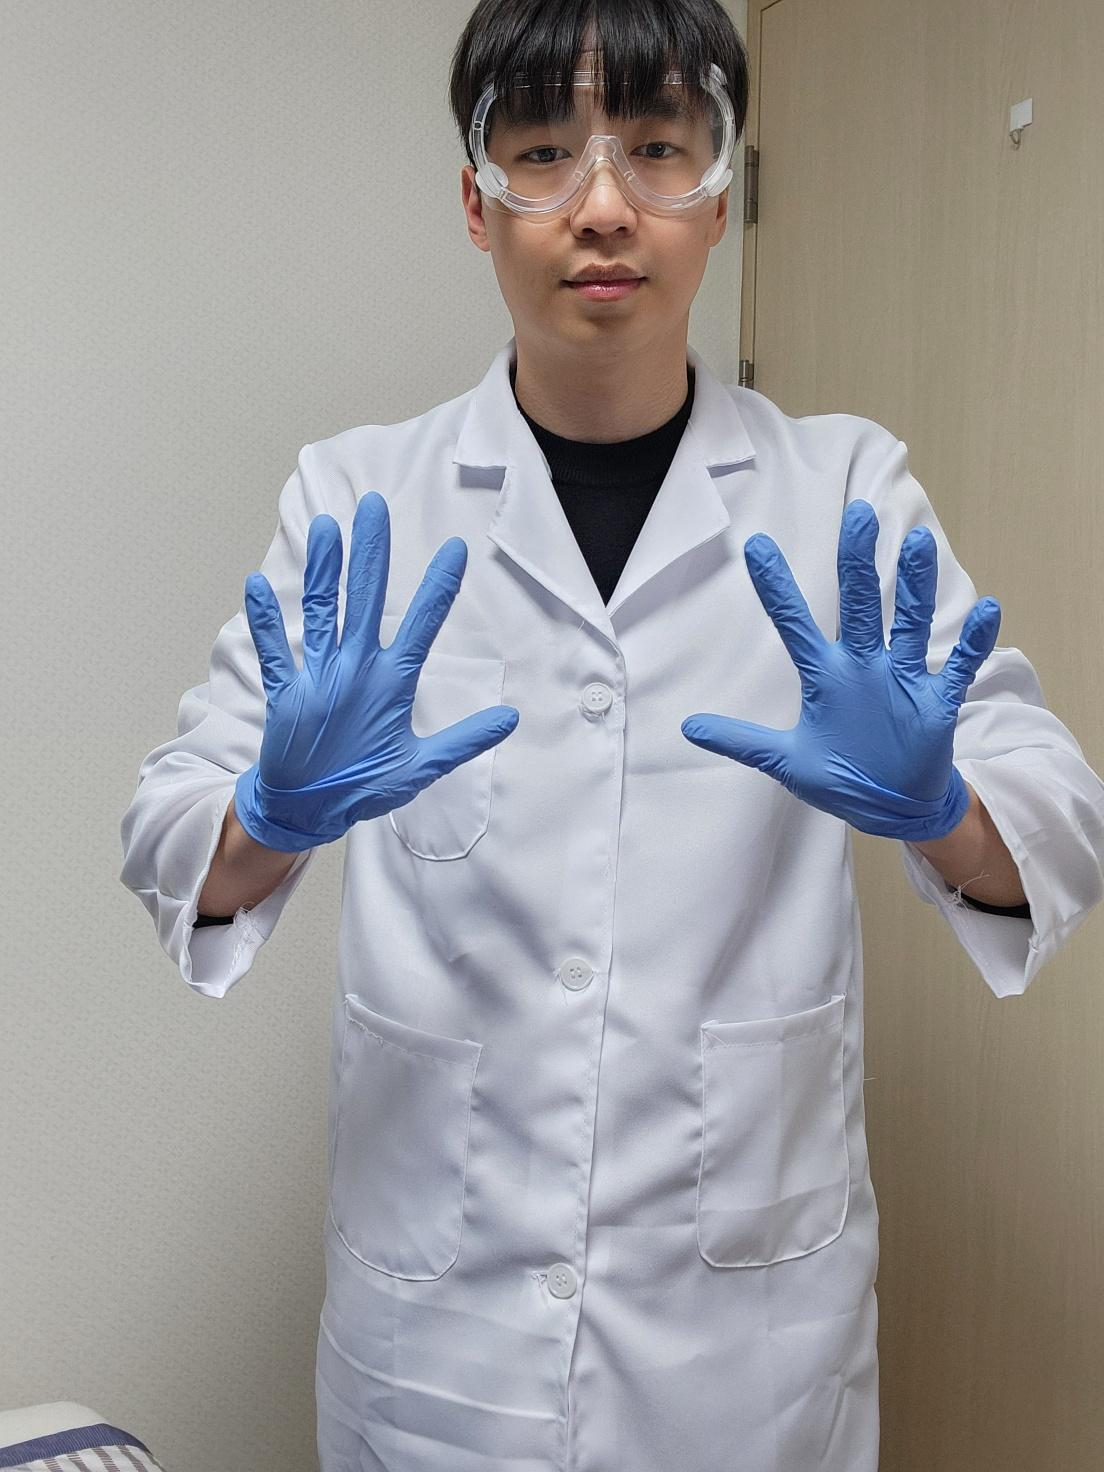lab_coat: (264, 336, 935, 1471)
